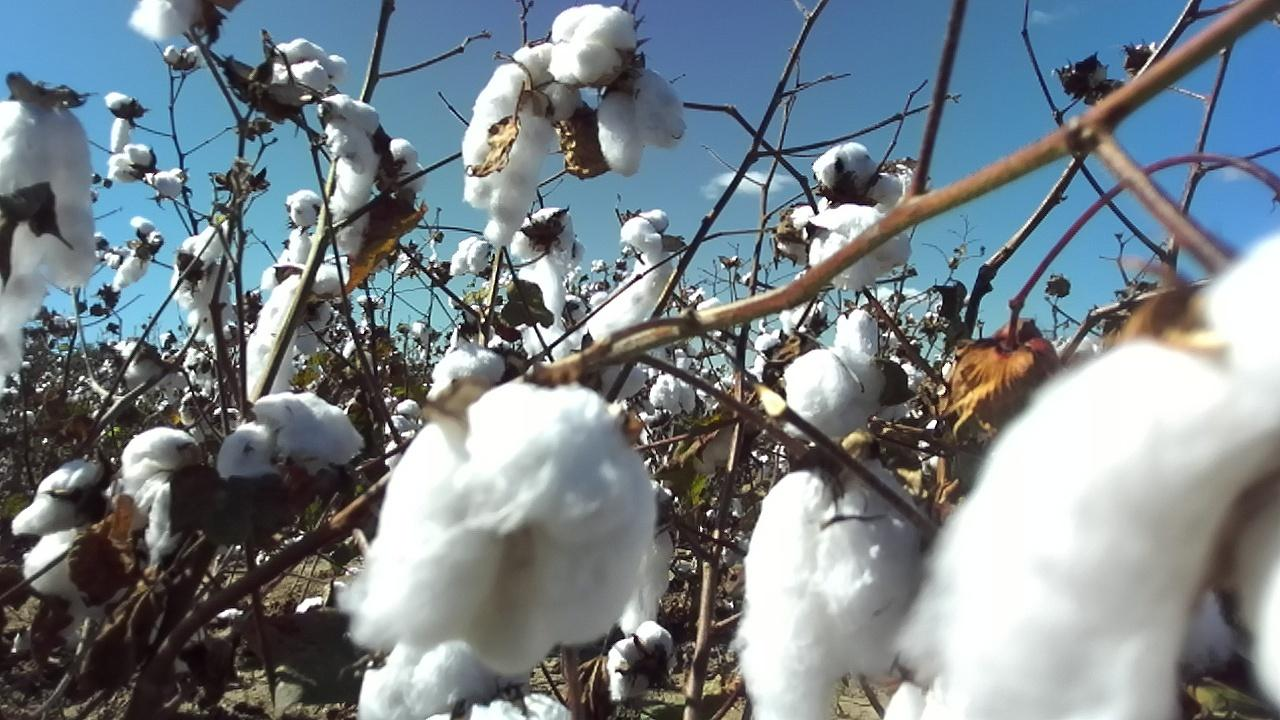cotton_ready: (903, 223, 1280, 720), (346, 383, 657, 672), (737, 463, 918, 720), (0, 95, 100, 376), (466, 42, 579, 254), (357, 626, 530, 720), (246, 260, 353, 400), (214, 393, 366, 483), (121, 427, 203, 578), (591, 209, 680, 347), (781, 347, 907, 439), (24, 530, 137, 626), (319, 98, 384, 251), (596, 67, 686, 175), (512, 205, 575, 359), (811, 210, 912, 291), (11, 460, 113, 537), (547, 3, 640, 87), (173, 217, 236, 340), (608, 620, 674, 703), (428, 348, 510, 406), (268, 36, 346, 92), (425, 695, 580, 720), (814, 140, 878, 195), (130, 0, 206, 42), (870, 163, 932, 213), (777, 205, 824, 264), (834, 306, 880, 361), (386, 138, 427, 196)
